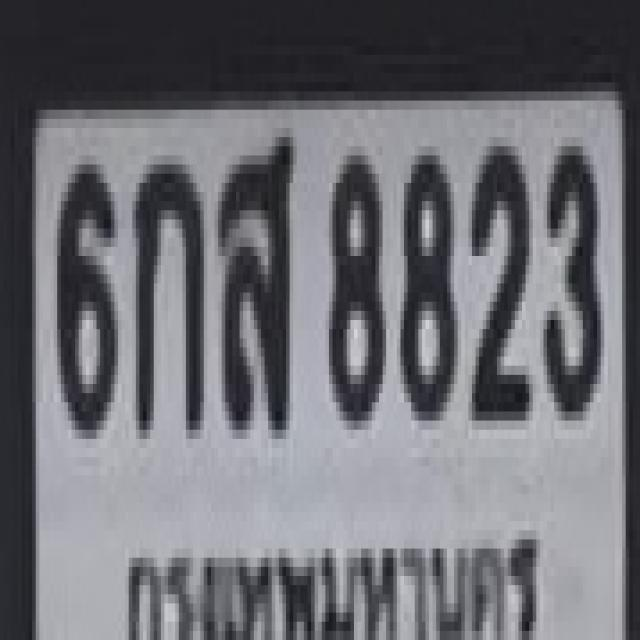2: (468, 137, 526, 412)
3: (540, 137, 597, 412)
6: (54, 155, 114, 430)
8: (325, 146, 379, 412), (397, 146, 450, 412)
A01: (132, 155, 200, 430)
A40: (214, 133, 290, 425)
BKK: (118, 519, 544, 640)
